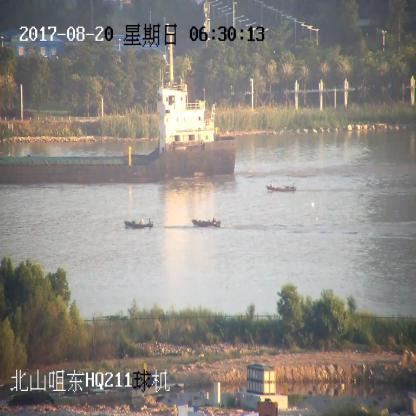Fishing Boat: (193, 215, 222, 230), (267, 181, 295, 194), (125, 219, 153, 229)
